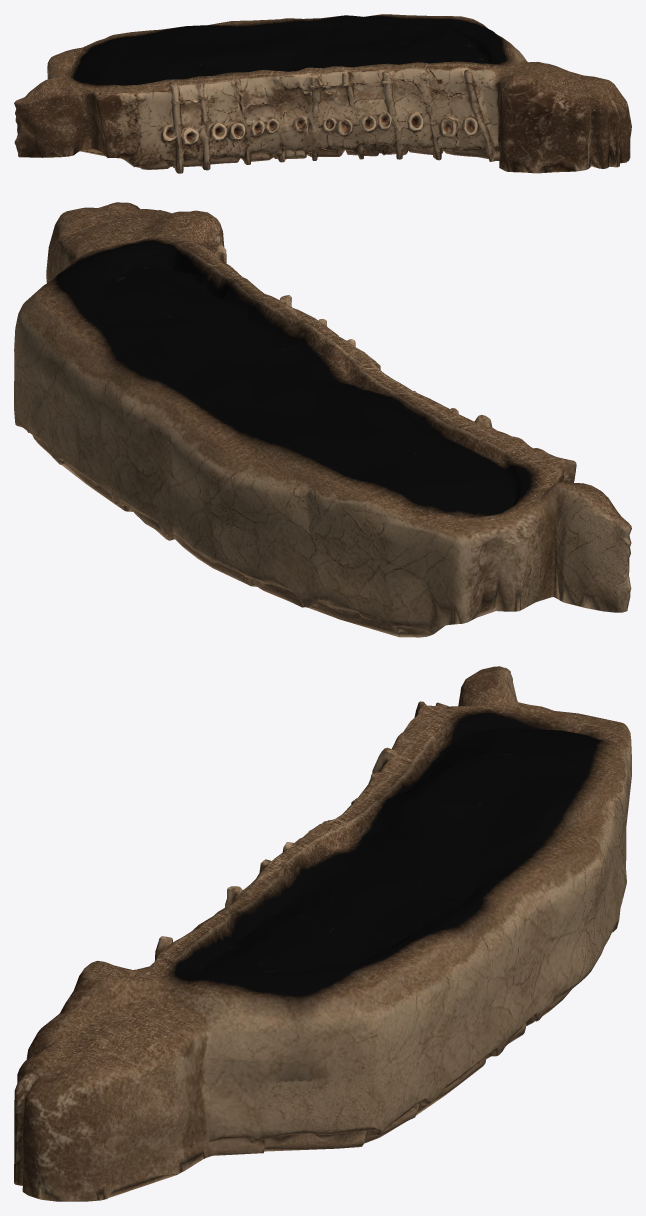
The model's file is Iron_Smelting_Oven_1.glb.
The picture shows the model from 3 angles, top to bottom: view 1: azimuth 30°, elevation 25°; view 2: azimuth 150°, elevation 25°; view 3: azimuth 270°, elevation 25°; orthographic projection. The views are drawn at different scales.
Visible parts, largest first — view 1: Mesh_0; view 2: Mesh_0; view 3: Mesh_0.
Boxes of the visible parts, box(x1,y1,x2,y2) form: Mesh_0: box(14, 14, 631, 173); Mesh_0: box(14, 202, 631, 637); Mesh_0: box(14, 666, 631, 1201).
Size of the model in its own units: 1.9 by 0.3466 by 1.22.
Materials: 1 (1 with a texture image).
